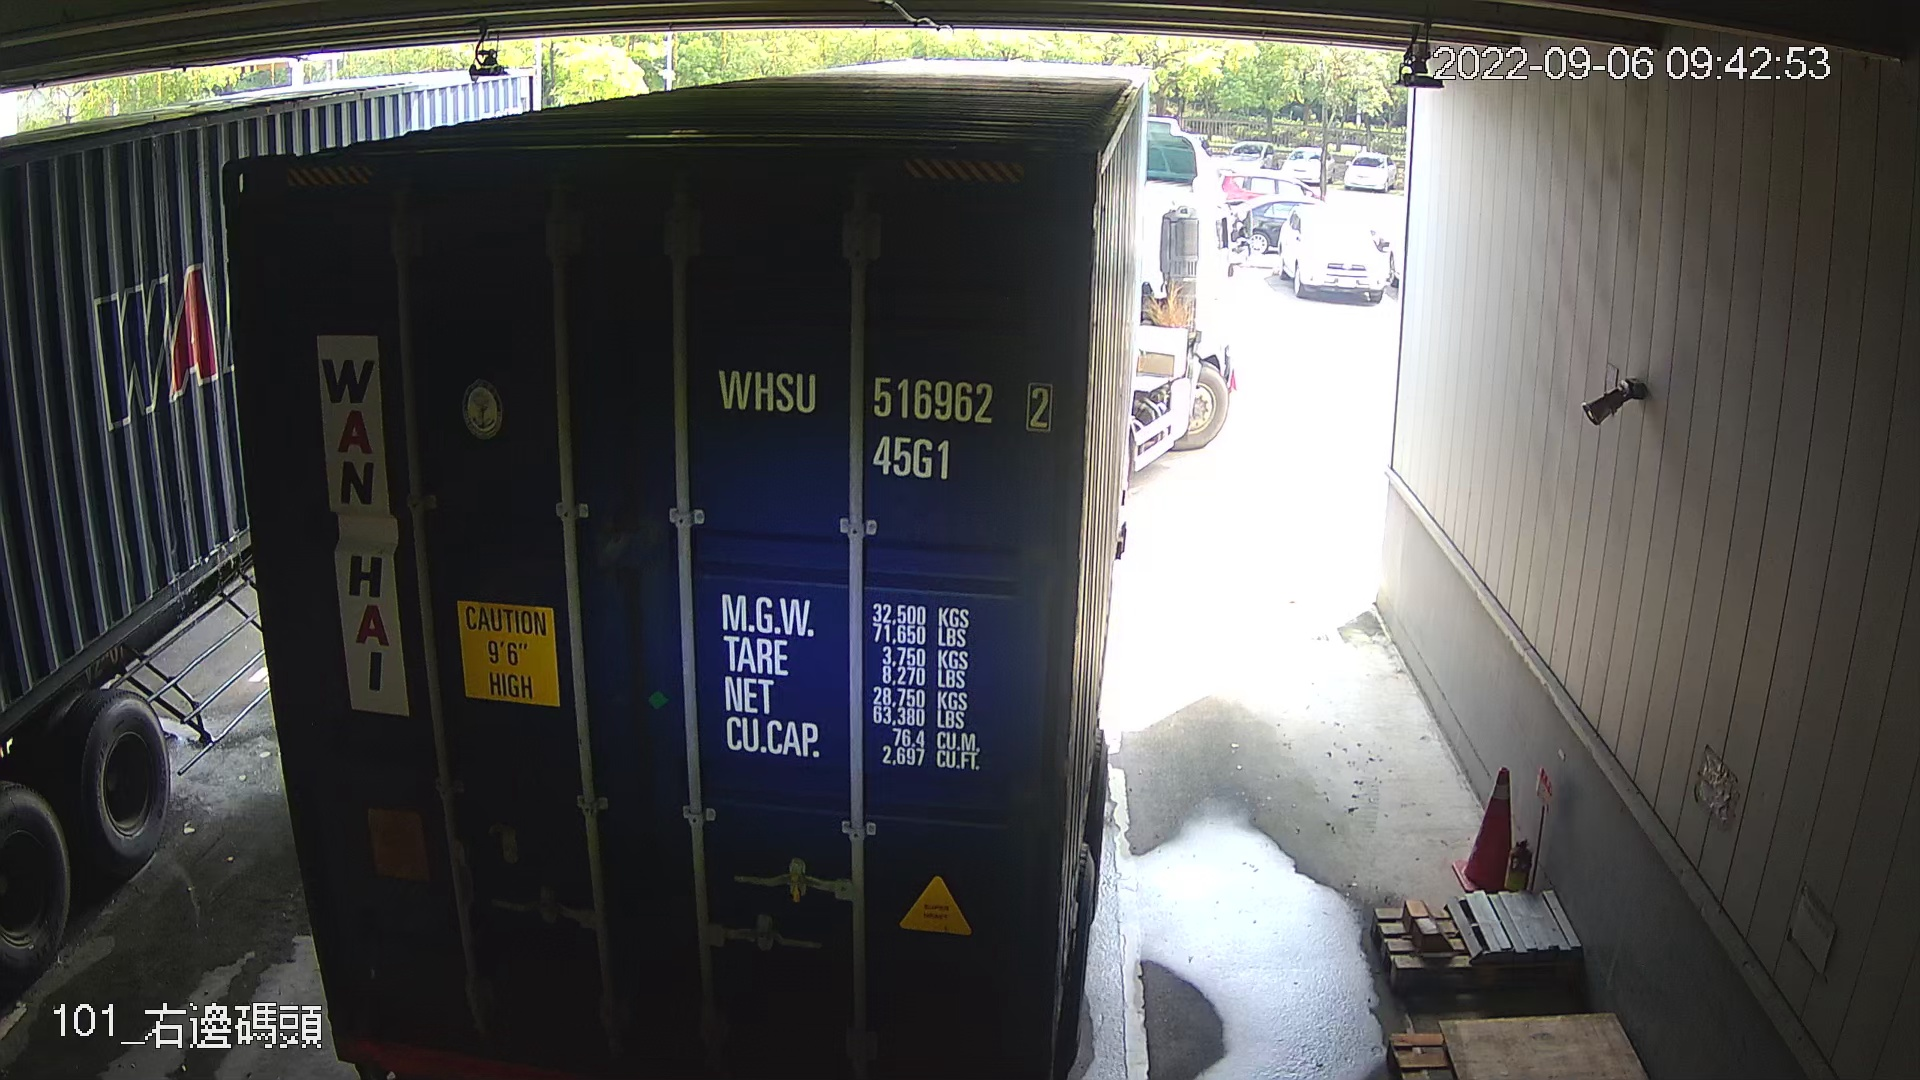container: (707, 355, 1064, 489)
